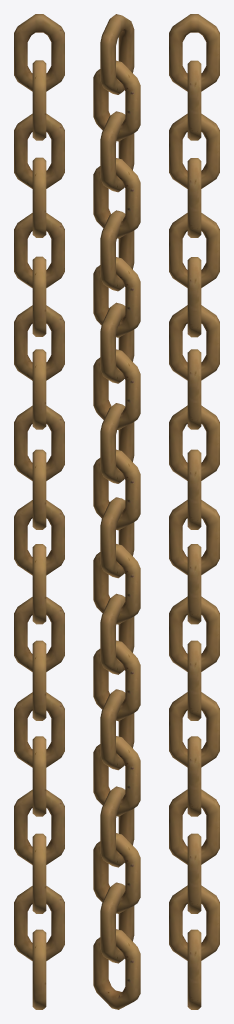
3 views of the same model, side by side, from view 1: azimuth 90°, elevation 25°; view 2: azimuth 150°, elevation 25°; view 3: azimuth 270°, elevation 25° (orthographic).
Parts seen in each view (by area): view 1: SM_Dragonkin_Chain_Cage_02_LOD0; view 2: SM_Dragonkin_Chain_Cage_02_LOD0; view 3: SM_Dragonkin_Chain_Cage_02_LOD0.
Boxes of the visible parts, x1,y1,x2,y2 form: SM_Dragonkin_Chain_Cage_02_LOD0: (14, 14, 64, 1009); SM_Dragonkin_Chain_Cage_02_LOD0: (93, 14, 140, 1009); SM_Dragonkin_Chain_Cage_02_LOD0: (169, 14, 219, 1009).
Size of the model in its own units: 0.296 by 6.36 by 0.296.
Materials: 1 (1 with a texture image).
